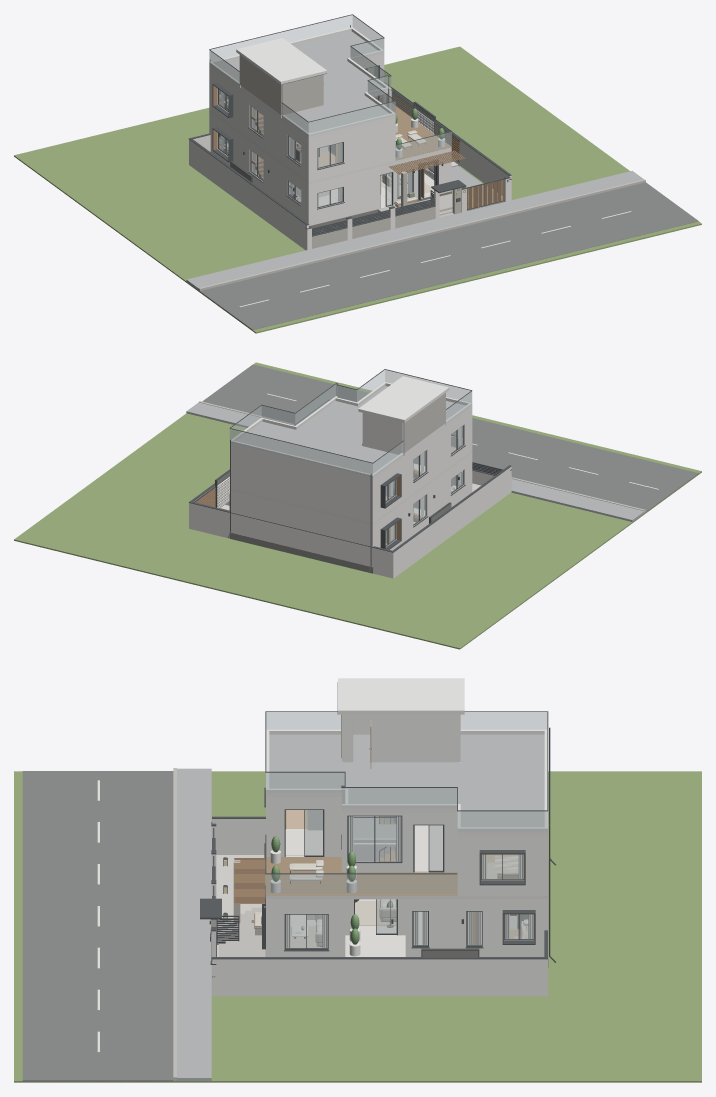
3 renders of one model, top to bottom at view 1: azimuth 30°, elevation 25°; view 2: azimuth 150°, elevation 25°; view 3: azimuth 270°, elevation 25°, orthographic. The views are drawn at different scales.
Parts seen in each view (by area): view 1: world, custom-roof-finish-1, roof-guard-1, south-stair-core-1-headhouse-lid, custom-roof-edge-1, wall-fb176998b8cac11f7c/0, exterior-boundary-cladding--1.52, u-terrace-front-guard-0, wall-76f8bd409730802c31/0, u-terrace-front/floor, wall-328c8f5e7402da880b/0, F1-floor (+8 smaller); view 2: world, custom-roof-finish-1, roof-guard-1, wall-695b57e705ed7dc3f3/0, wall-56ffca49b5aa8b573b/0, south-stair-core-1-headhouse-lid, custom-roof-edge-1, wall-c158d2b56bb739d9ef/0, wall-265c2839a72f303c88/0, south-stair-core-1-roof-wall-rear/0, plinth-band, wall-51a5f01bc37d38f417/0 (+8 smaller); view 3: world, custom-roof-finish-1, roof-guard-1, south-stair-core-1-headhouse-lid, south-stair-core-1-roof-wall-right/0, custom-roof-edge-1, u-terrace-north/floor, u-terrace-north-guard-0, u-terrace-front/floor, wall-722c5f142f43e89ac9/1, u-lounge/floor, u-terrace-front-guard-0 (+22 smaller).
Part boxes in pixels (x1,y1,x2,y2): world: (14,25,701,333); custom-roof-finish-1: (216,31,389,132); roof-guard-1: (209,15,395,136); south-stair-core-1-headhouse-lid: (236,38,327,84); custom-roof-edge-1: (209,27,395,137); wall-fb176998b8cac11f7c/0: (357,118,395,169); exterior-boundary-cladding--1.52: (312,207,435,248); u-terrace-front-guard-0: (395,112,451,159); wall-76f8bd409730802c31/0: (357,171,395,214); u-terrace-front/floor: (395,127,451,160); wall-328c8f5e7402da880b/0: (310,199,357,225); F1-floor: (209,109,451,183); world: (14,362,701,649); custom-roof-finish-1: (236,386,465,473); roof-guard-1: (229,370,470,477); wall-695b57e705ed7dc3f3/0: (231,446,292,503); wall-56ffca49b5aa8b573b/0: (313,466,370,522); south-stair-core-1-headhouse-lid: (358,376,449,422); custom-roof-edge-1: (231,382,472,478); wall-c158d2b56bb739d9ef/0: (313,511,370,566); wall-265c2839a72f303c88/0: (231,490,271,542); south-stair-core-1-roof-wall-rear/0: (363,413,403,454); plinth-band: (229,532,373,573); wall-51a5f01bc37d38f417/0: (292,461,313,508); world: (14,682,701,1082); custom-roof-finish-1: (269,734,544,827); roof-guard-1: (265,712,547,831); south-stair-core-1-headhouse-lid: (338,678,464,714); south-stair-core-1-roof-wall-right/0: (343,720,458,762); custom-roof-edge-1: (266,729,547,833); u-terrace-north/floor: (342,872,457,895); u-terrace-north-guard-0: (342,874,457,894); u-terrace-front/floor: (266,857,341,895); wall-722c5f142f43e89ac9/1: (405,911,489,946); u-lounge/floor: (354,825,442,871); u-terrace-front-guard-0: (265,874,341,894).
Size of the model in its own units: 33.24 by 9.58 by 31.24.
